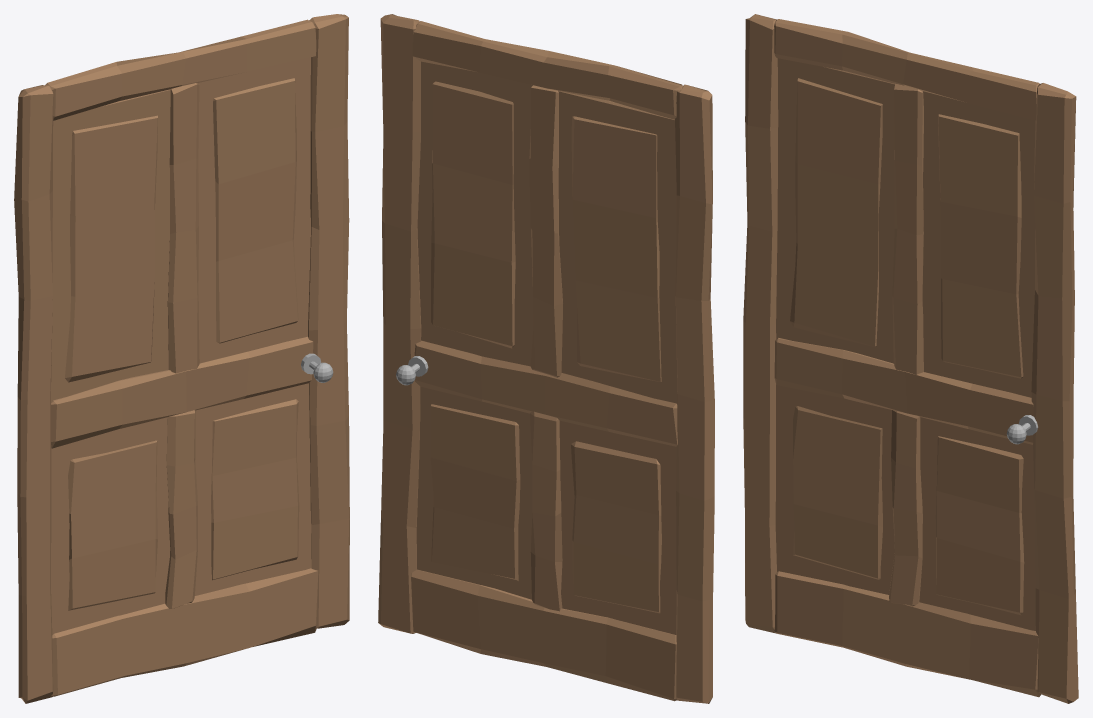
Rendered from PKX_Door_Leaf_Int.fbx.
The picture shows the model from 3 angles, left to right: view 1: azimuth 30°, elevation 25°; view 2: azimuth 150°, elevation 25°; view 3: azimuth 330°, elevation 25°; orthographic projection.
Parts seen in each view (by area): view 1: PKX_Door_Leaf_Int; view 2: PKX_Door_Leaf_Int; view 3: PKX_Door_Leaf_Int.
Part boxes in pixels (left/top/right/bottom): PKX_Door_Leaf_Int: left=14, top=14, right=349, bottom=703; PKX_Door_Leaf_Int: left=378, top=14, right=714, bottom=703; PKX_Door_Leaf_Int: left=743, top=14, right=1078, bottom=703.
Size of the model in its own units: 88.6 by 157 by 19.86.
